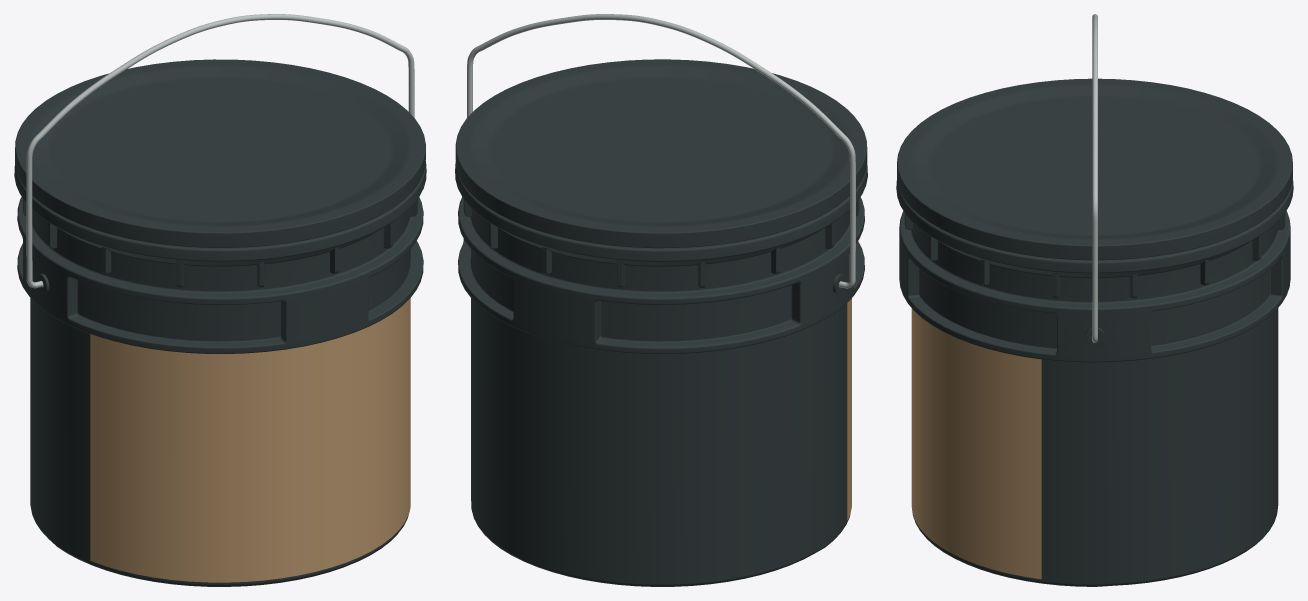
Rendered from consumable_grease_a01.glb.
The picture shows the model from 3 angles, left to right: view 1: azimuth 30°, elevation 25°; view 2: azimuth 150°, elevation 25°; view 3: azimuth 270°, elevation 25°; orthographic projection. The views are drawn at different scales.
Size of the model in its own units: 0.2999 by 0.3604 by 0.2763.
